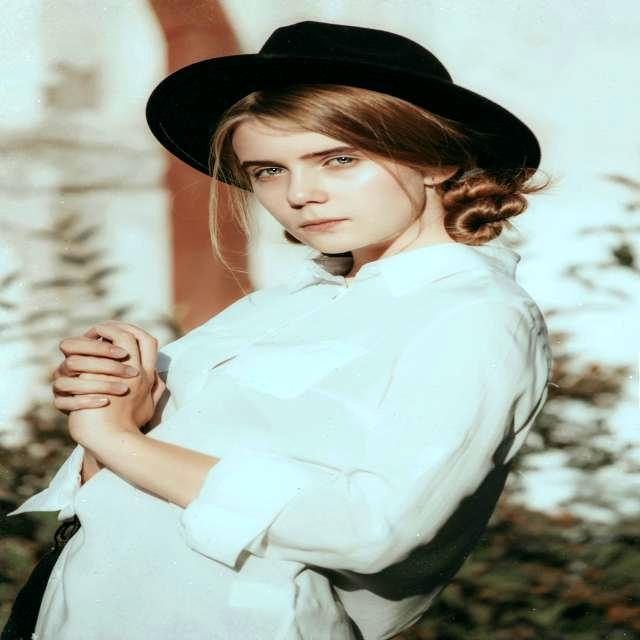no_hard_hat: (146, 21, 540, 176)
person: (3, 85, 552, 640)
